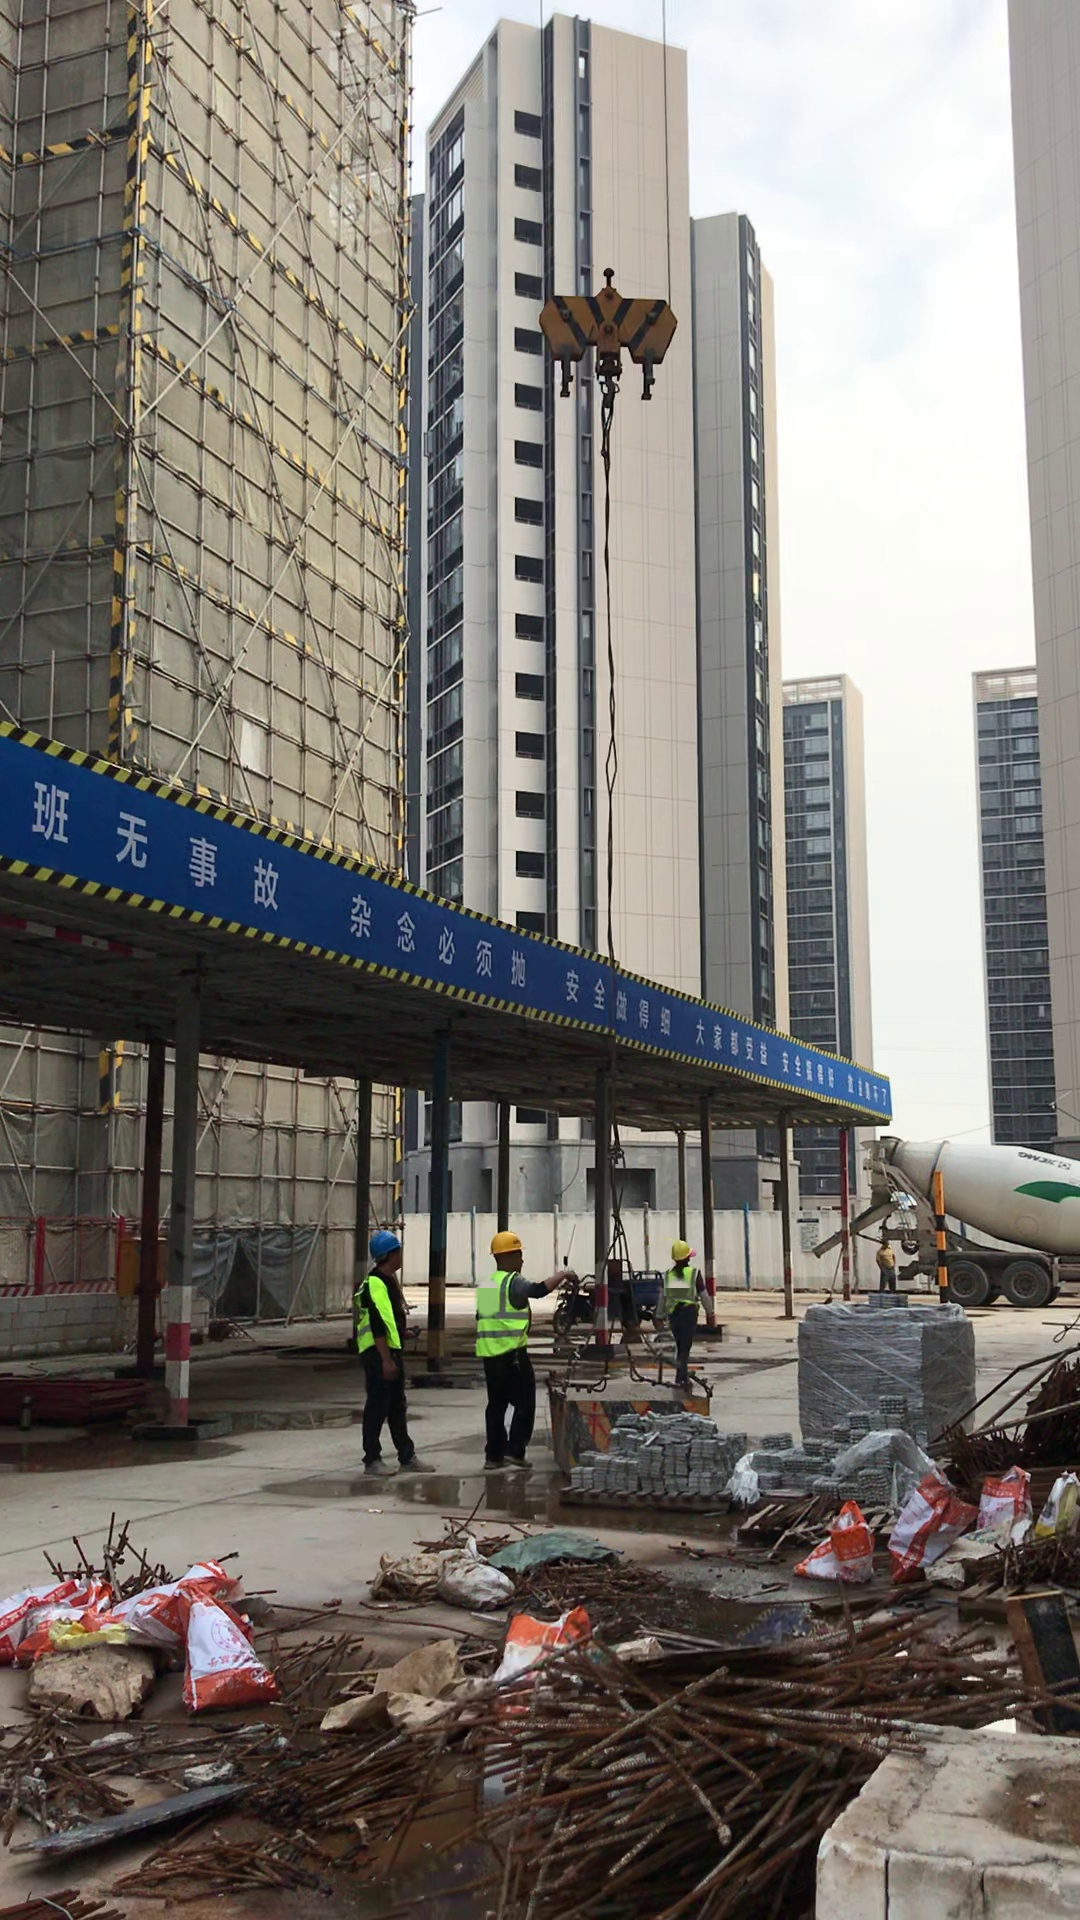ebox: (116, 1230, 161, 1304)
fence: (1, 1217, 129, 1297)
helmet: (485, 1227, 528, 1252), (367, 1230, 399, 1256), (670, 1239, 696, 1260)
hook: (528, 267, 686, 413)
hopper: (550, 1380, 711, 1473)
person: (462, 1223, 578, 1481), (337, 1212, 439, 1490), (647, 1232, 727, 1399), (875, 1238, 900, 1291)
slogan: (5, 747, 882, 1109)
vest: (473, 1272, 540, 1355), (353, 1272, 408, 1351), (663, 1261, 700, 1305)
